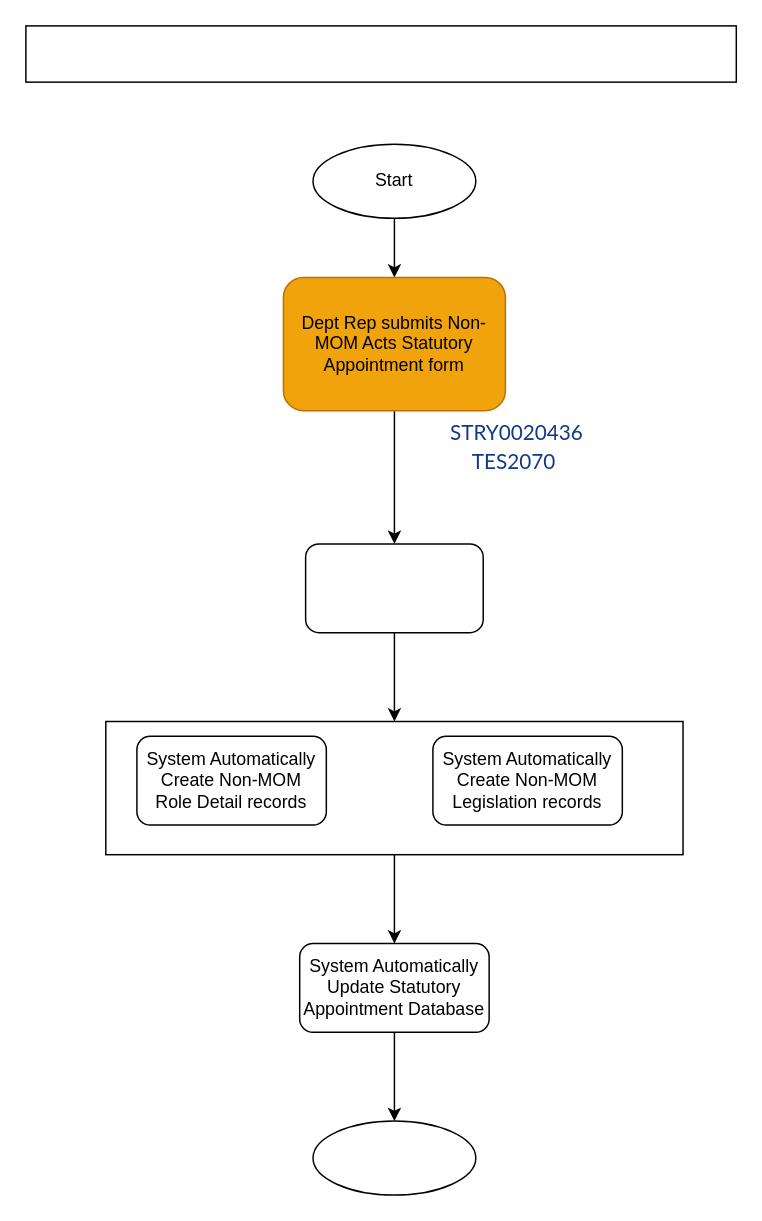
The diagram is 762 pixels wide and 1221 high, and some of its shapes have lost their labels. The shapes that lost their labels are listed below. From the top down, each one's centre as x and y in pixels, then its label:
the point at 380,53: Dept Rep add Non-MOM Acts & Statutory Appointment
the point at 393,587: Non-MOM Acts Statutory Appointment HR Case Created
the point at 394,1157: End
